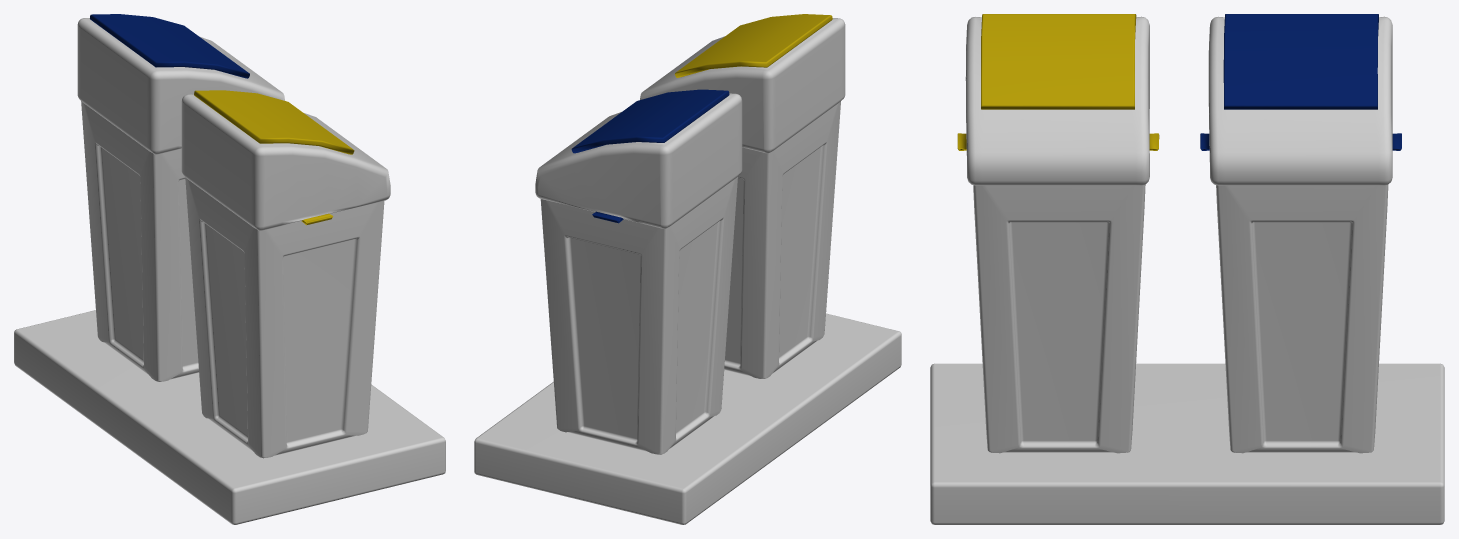
The model's file is Eden_trashcan.fbx.
3 renders of one model, left to right at view 1: azimuth 30°, elevation 25°; view 2: azimuth 150°, elevation 25°; view 3: azimuth 270°, elevation 25°, orthographic. The views are drawn at different scales.
Parts seen in each view (by area): view 1: pCube16; view 2: pCube16; view 3: pCube16.
Part boxes in pixels (<box>): pCube16: <box>14,14,445,524</box>; pCube16: <box>474,14,901,524</box>; pCube16: <box>930,14,1444,524</box>.
Size of the model in its own units: 0.0158 by 0.0253 by 0.0282.
